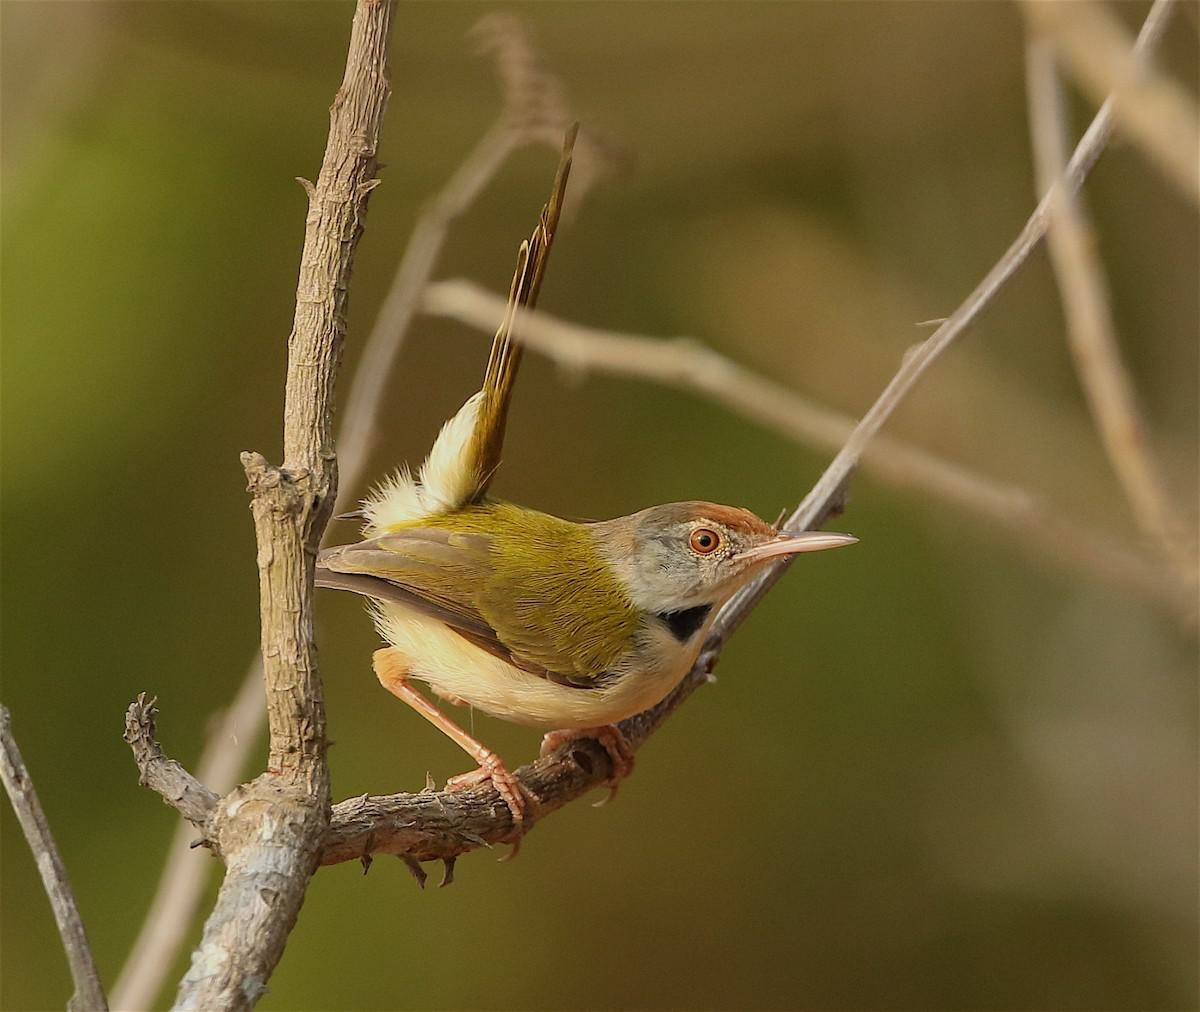tailorbird: (268, 419, 979, 858)
